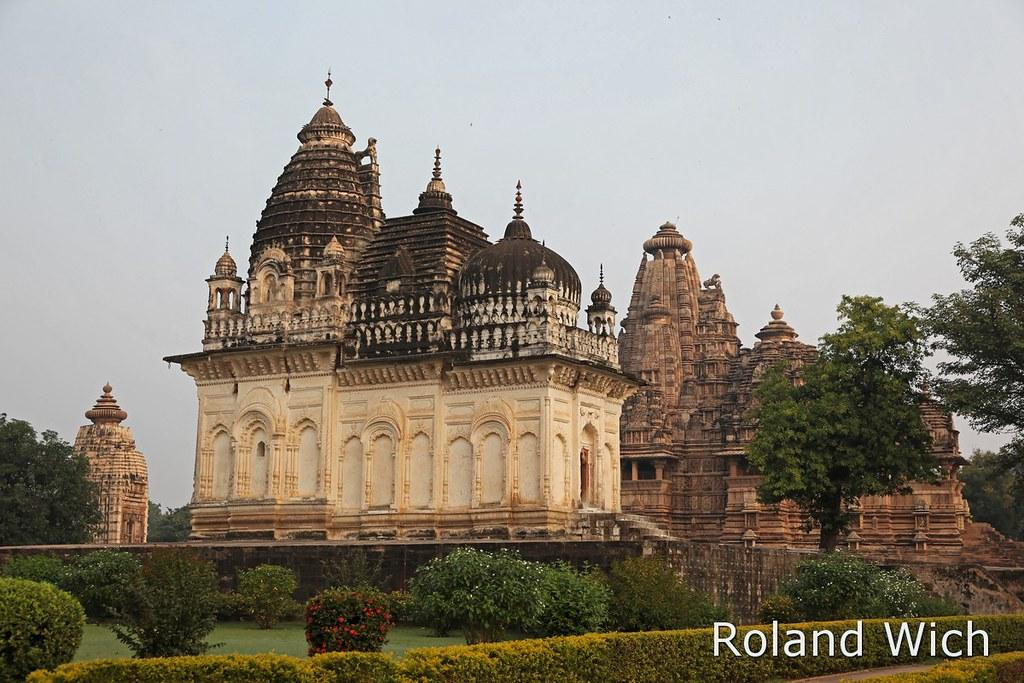temple: (157, 65, 974, 561), (70, 381, 150, 545)
